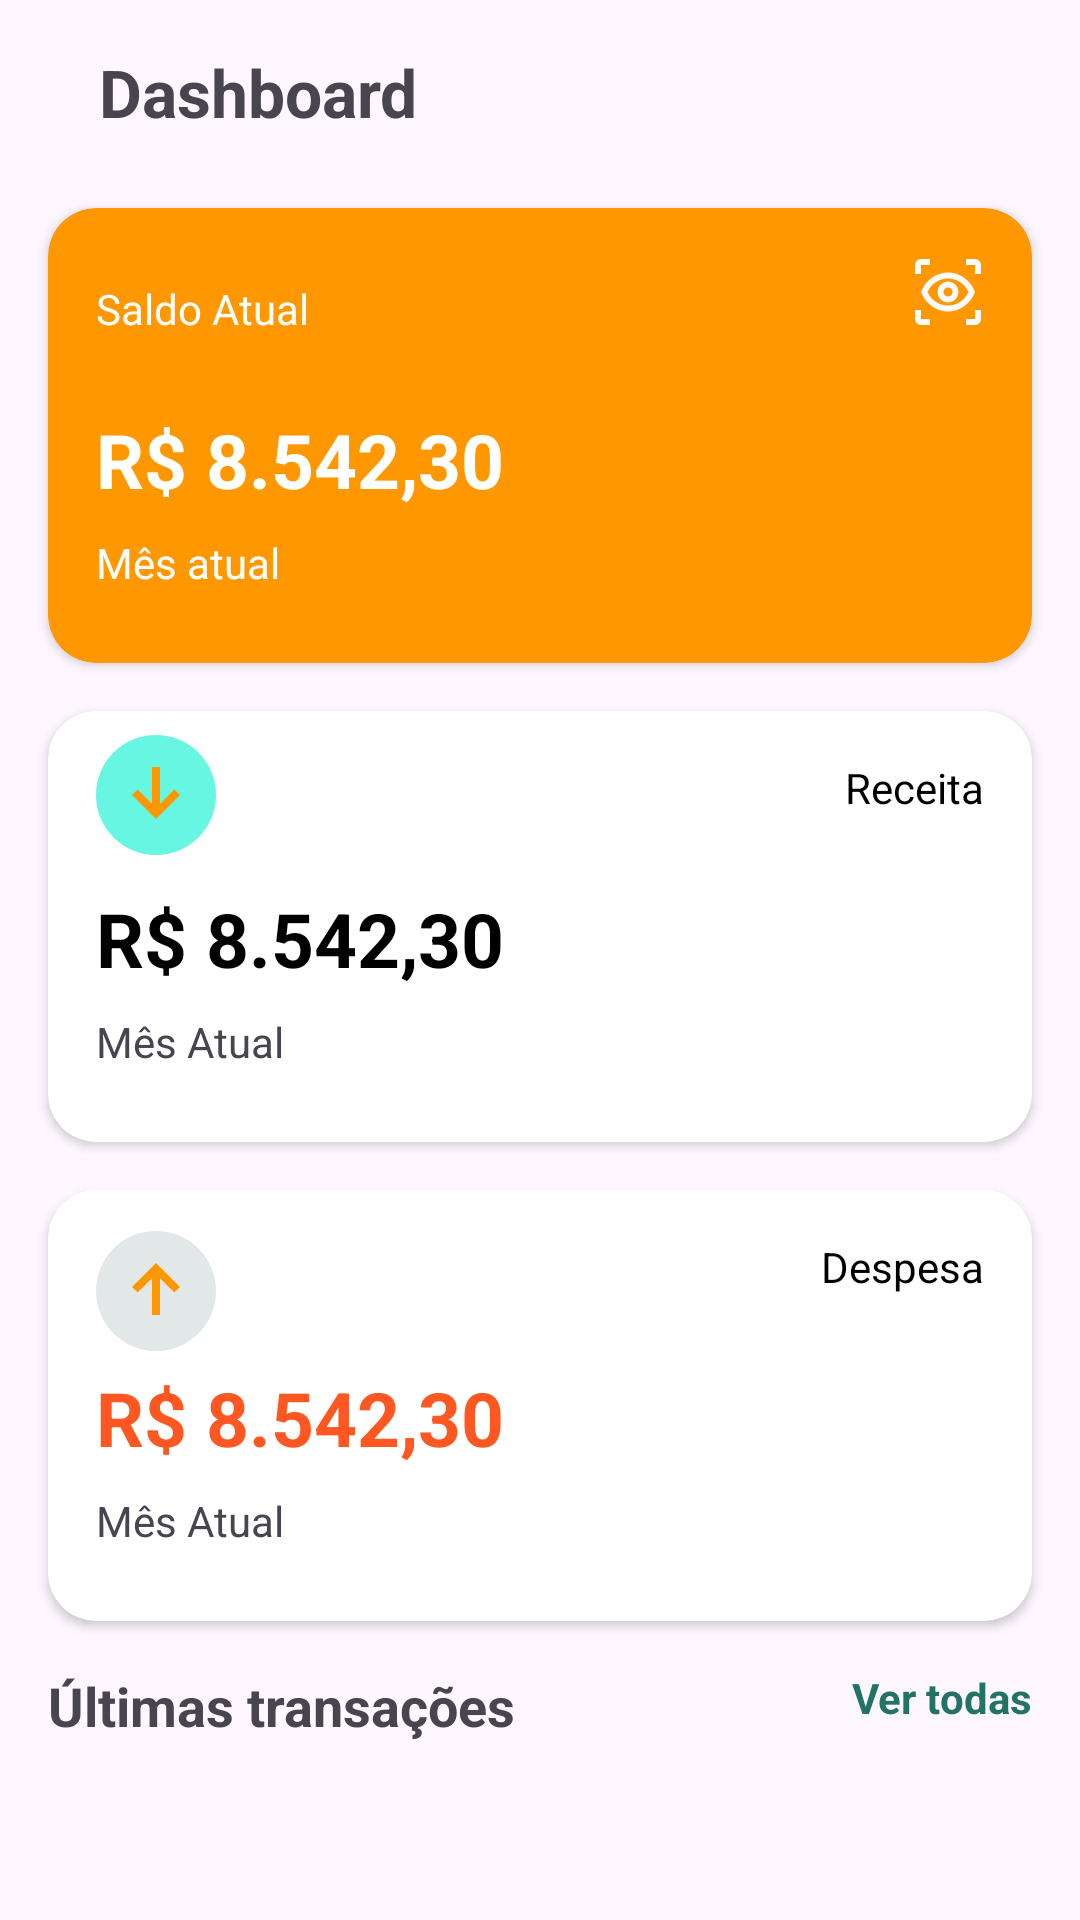

Named icons in this screenshot (1080w x 1920h) and their centers, point (x, y):
olho: point (948, 292)
seta despesas: point (156, 1291)
seta receita: point (156, 795)
